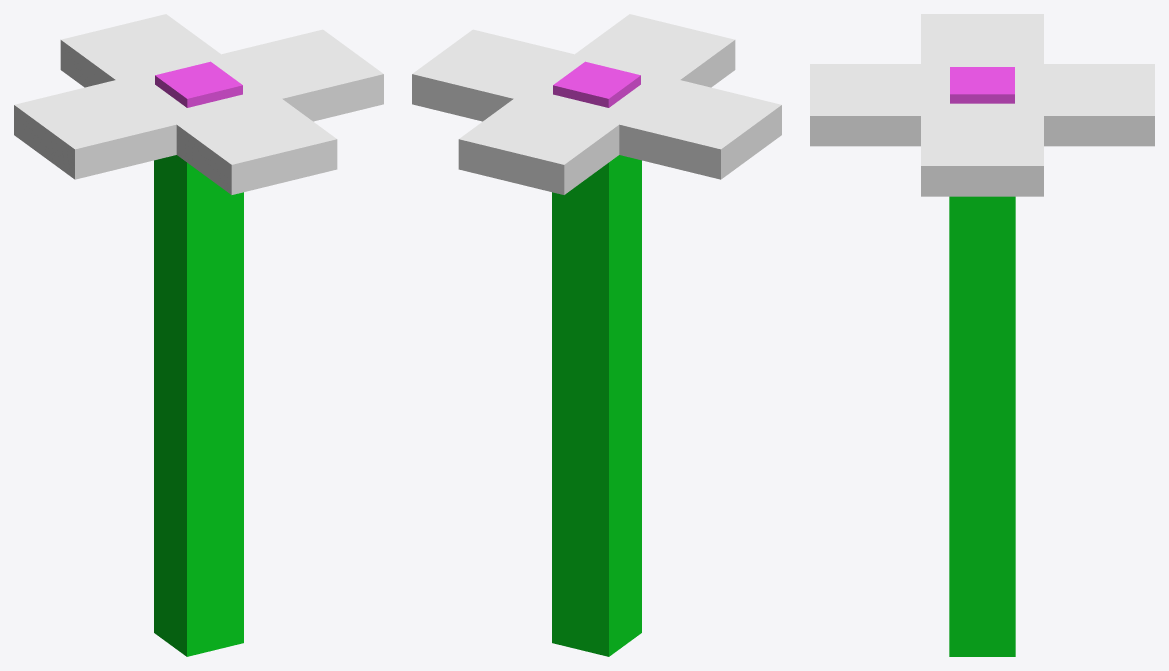
File: lowpolyflower.fbx
The picture shows the model from 3 angles, left to right: view 1: azimuth 30°, elevation 25°; view 2: azimuth 150°, elevation 25°; view 3: azimuth 270°, elevation 25°; orthographic projection.
Visible parts, largest first — view 1: Cube; view 2: Cube; view 3: Cube.
Boxes of the visible parts, x1,y1,x2,y2 form: Cube: [14, 14, 383, 656]; Cube: [412, 14, 781, 656]; Cube: [810, 14, 1154, 656].
Size of the model in its own units: 123 by 212 by 118.
